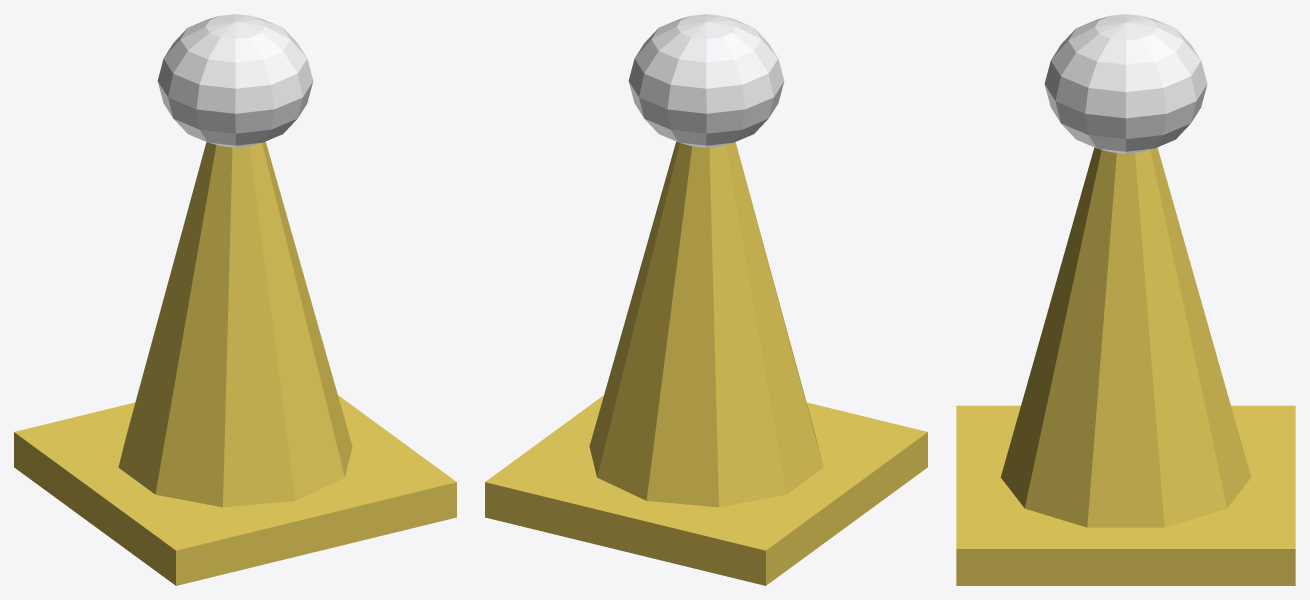
The model's file is snow_traffic_cone.glb.
The picture shows the model from 3 angles, left to right: view 1: azimuth 30°, elevation 25°; view 2: azimuth 150°, elevation 25°; view 3: azimuth 270°, elevation 25°; orthographic projection. The views are drawn at different scales.
Parts seen in each view (by area): view 1: cone, base, snowcap; view 2: cone, base, snowcap; view 3: cone, base, snowcap.
Part boxes in pixels (<box>): cone: <box>118,141,352,507</box>; base: <box>14,395,456,585</box>; snowcap: <box>157,14,313,147</box>; cone: <box>589,141,823,507</box>; base: <box>485,395,927,585</box>; snowcap: <box>628,14,784,147</box>; cone: <box>1000,147,1251,527</box>; base: <box>956,405,1295,585</box>; snowcap: <box>1044,14,1207,153</box>.
Bounding box in the file's own units: 0.5 × 0.8002 × 0.5.
